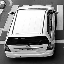motor: (11, 6, 44, 56)
